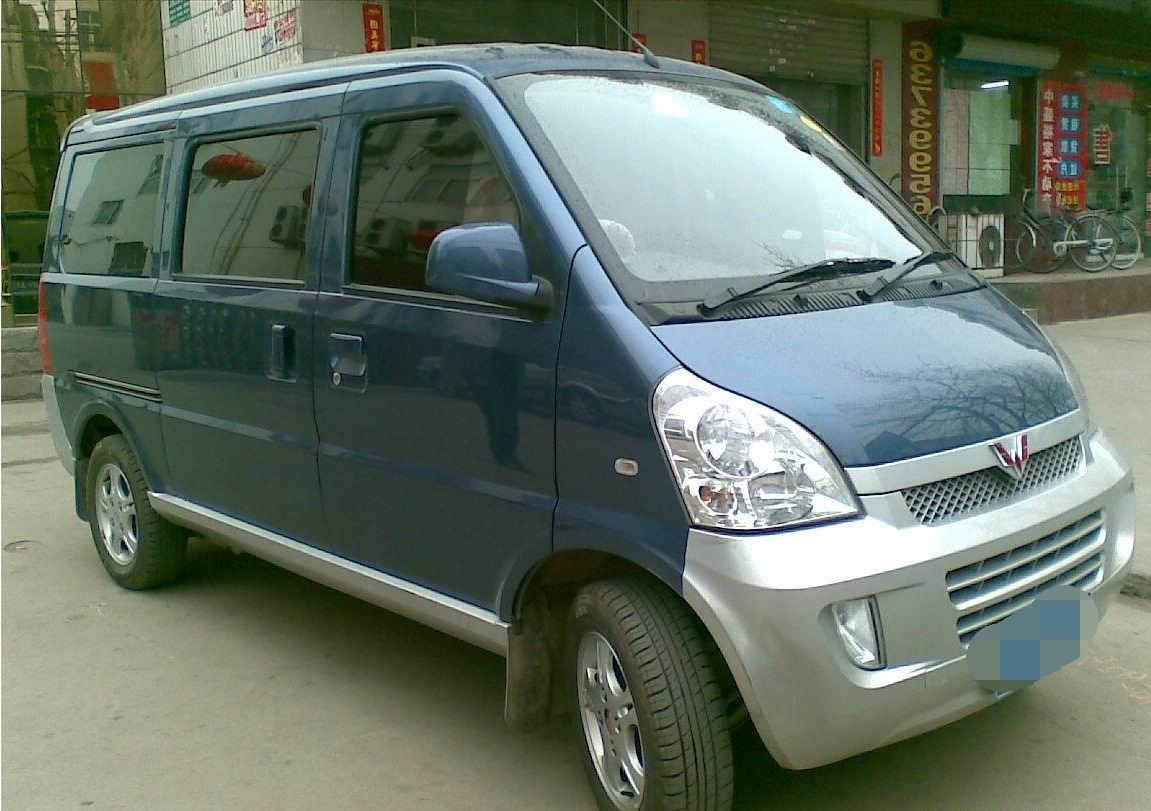minibus: (47, 77, 1119, 773)
